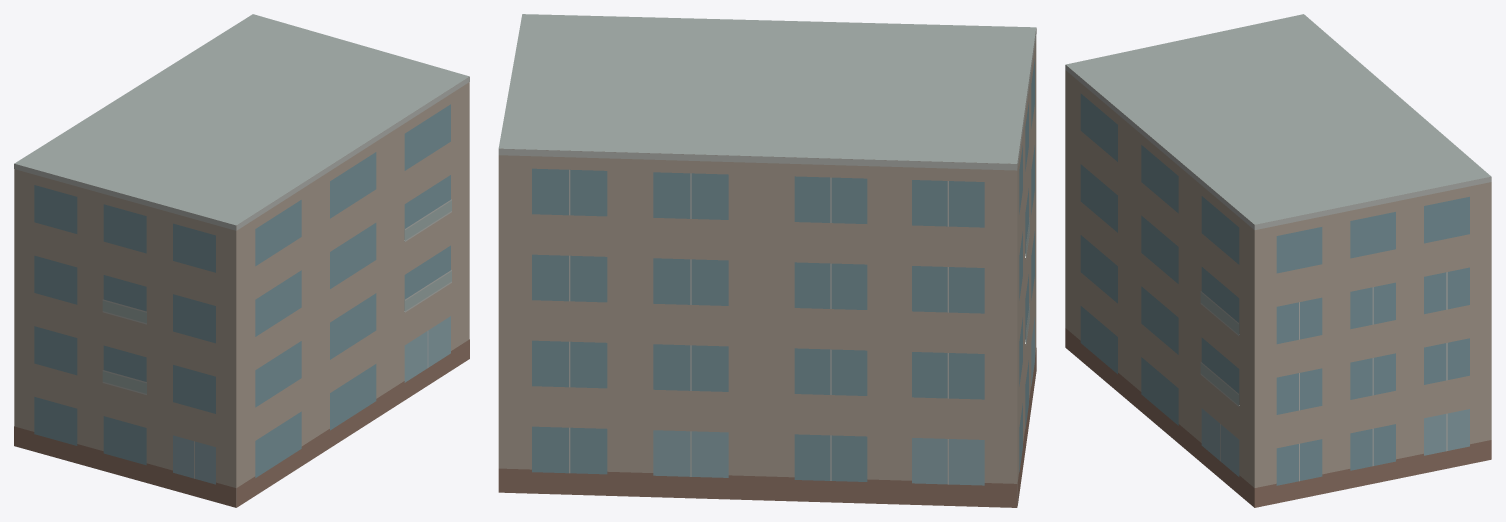
The model's file is survey-upis-33012925.glb.
3 views of the same model, side by side, from view 1: azimuth 30°, elevation 25°; view 2: azimuth 150°, elevation 25°; view 3: azimuth 270°, elevation 25° (orthographic). The views are drawn at different scales.
Parts seen in each view (by area): view 1: survey-upis-33012925.tmp; view 2: survey-upis-33012925.tmp; view 3: survey-upis-33012925.tmp.
Part boxes in pixels (box(x1,y1,x2,y2)): survey-upis-33012925.tmp: box(14, 14, 469, 507); survey-upis-33012925.tmp: box(498, 14, 1036, 507); survey-upis-33012925.tmp: box(1065, 14, 1491, 507).
Size of the model in its own units: 20.46 by 12.8 by 17.47.
